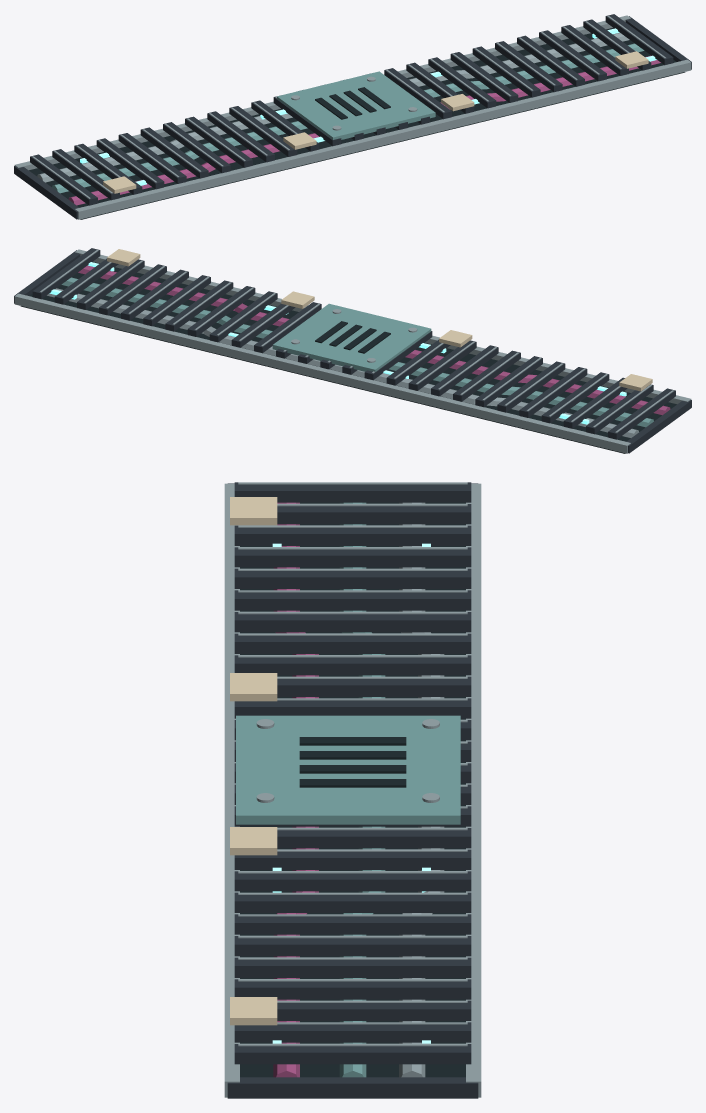
The model's file is tidal_conduit.glb.
3 renders of one model, top to bottom at view 1: azimuth 30°, elevation 25°; view 2: azimuth 150°, elevation 25°; view 3: azimuth 270°, elevation 25°, orthographic. The views are drawn at different scales.
Visible parts, largest first — view 1: Casework; view 2: Casework; view 3: Casework.
Part boxes in pixels (left/top/right/bottom): Casework: left=14, top=14, right=691, bottom=219; Casework: left=14, top=248, right=691, bottom=453; Casework: left=224, top=482, right=481, bottom=1098.
Size of the model in its own units: 6.01 by 0.2115 by 1.09.
